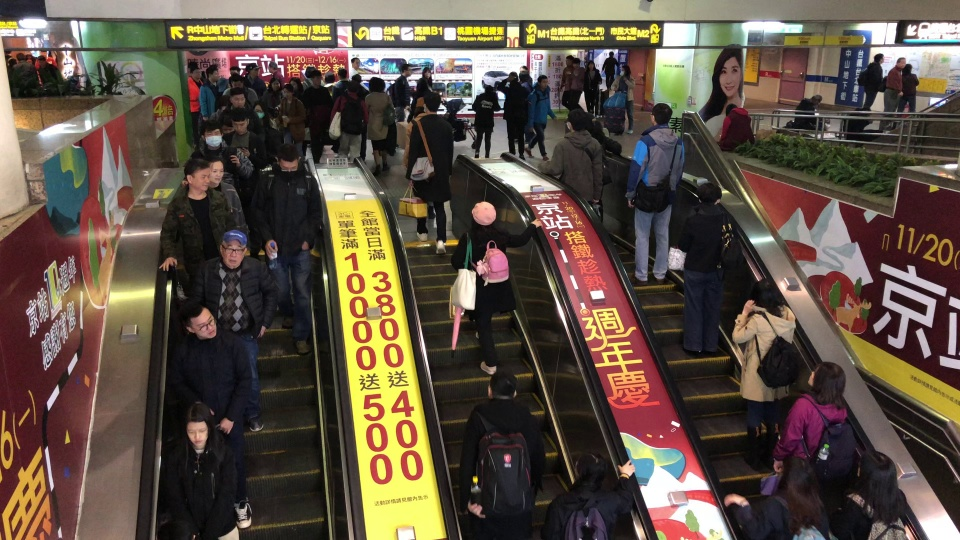person_head: (855, 449, 898, 506), (777, 454, 818, 504), (807, 360, 846, 405), (182, 302, 222, 343), (184, 402, 212, 448), (574, 451, 608, 485), (219, 230, 247, 269), (752, 277, 779, 310), (183, 158, 210, 191), (487, 371, 517, 400), (275, 143, 299, 178), (470, 201, 497, 231), (200, 119, 224, 149), (648, 102, 673, 126), (696, 182, 722, 205), (564, 109, 588, 132), (229, 109, 249, 136), (207, 155, 224, 184), (228, 86, 246, 110), (423, 92, 441, 115), (251, 100, 267, 119), (368, 76, 384, 94), (412, 96, 425, 118), (587, 112, 601, 132), (245, 63, 262, 79), (205, 64, 219, 82), (345, 80, 360, 94), (310, 69, 322, 86), (189, 65, 201, 82), (399, 62, 412, 77), (282, 83, 294, 99), (289, 76, 302, 90), (229, 75, 243, 88), (808, 93, 823, 105), (724, 103, 737, 116), (304, 65, 316, 79), (537, 75, 548, 90), (269, 77, 280, 91), (872, 53, 885, 64), (895, 57, 906, 70), (508, 70, 519, 83), (421, 66, 432, 79), (267, 60, 278, 73), (901, 63, 912, 75), (350, 73, 362, 84), (324, 71, 335, 83), (564, 54, 574, 67), (619, 65, 630, 76), (36, 55, 46, 67), (571, 57, 581, 68), (518, 71, 529, 81), (483, 84, 494, 94), (337, 68, 347, 79), (229, 66, 240, 76), (15, 52, 25, 63), (351, 57, 360, 69), (586, 60, 595, 70), (518, 64, 529, 72), (607, 51, 614, 59), (25, 51, 32, 59), (39, 50, 47, 57), (5, 48, 11, 55)
person_vbox: (168, 299, 261, 529), (188, 230, 277, 433), (448, 200, 543, 376), (249, 143, 323, 356), (457, 370, 547, 540), (731, 277, 794, 472), (624, 102, 685, 287), (676, 182, 737, 357), (164, 402, 239, 540), (158, 157, 237, 282), (723, 455, 828, 540), (771, 360, 848, 473), (541, 451, 636, 540), (405, 92, 454, 256), (828, 449, 908, 540), (536, 109, 603, 206), (401, 95, 436, 219), (586, 111, 621, 226), (189, 119, 253, 180), (206, 154, 249, 237), (328, 80, 369, 163), (364, 76, 395, 178), (523, 74, 557, 163), (497, 69, 529, 160), (303, 69, 332, 164), (216, 86, 265, 141), (877, 56, 907, 132), (471, 84, 501, 158), (279, 83, 306, 165), (348, 72, 370, 163), (608, 64, 636, 135), (391, 61, 413, 149), (715, 102, 754, 151), (199, 64, 228, 126), (219, 108, 263, 148), (861, 53, 885, 125), (513, 71, 536, 144), (841, 106, 883, 145), (289, 76, 308, 159), (251, 100, 283, 144), (791, 93, 828, 131), (895, 62, 920, 118), (186, 65, 203, 146), (222, 75, 259, 108), (583, 59, 602, 115), (567, 56, 585, 112), (36, 55, 64, 89), (558, 55, 573, 113), (242, 62, 267, 95), (261, 77, 283, 114), (331, 68, 352, 104), (601, 51, 619, 91), (411, 65, 434, 95), (11, 52, 35, 77), (301, 65, 324, 90), (267, 60, 285, 89), (322, 71, 337, 97), (348, 56, 362, 81), (38, 49, 57, 67), (518, 64, 532, 87), (3, 48, 16, 66), (25, 51, 37, 64)
